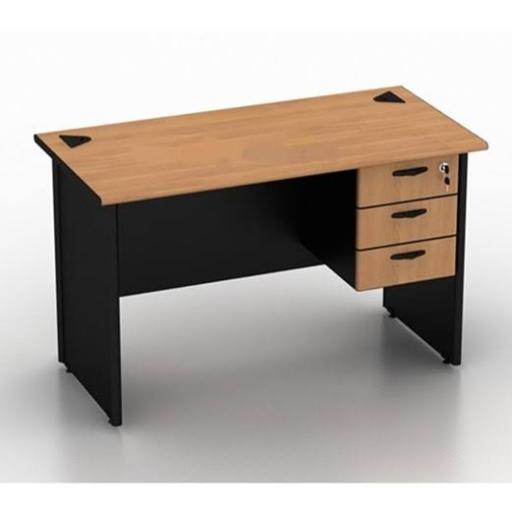meja: (36, 81, 494, 429)
